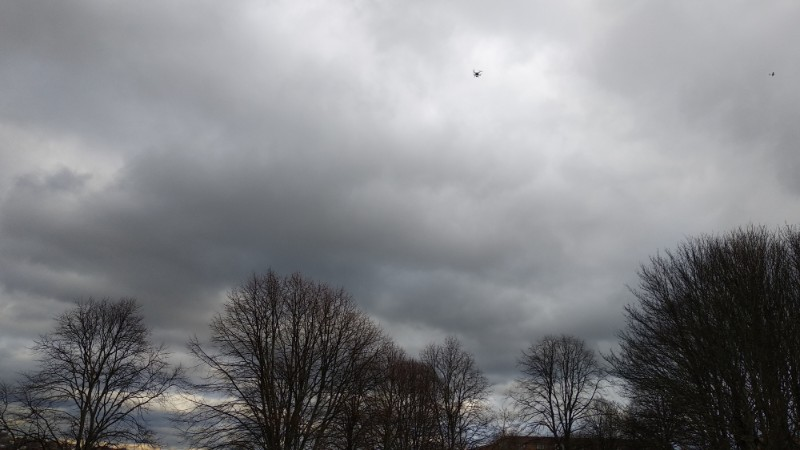drone: (473, 69, 483, 77)
